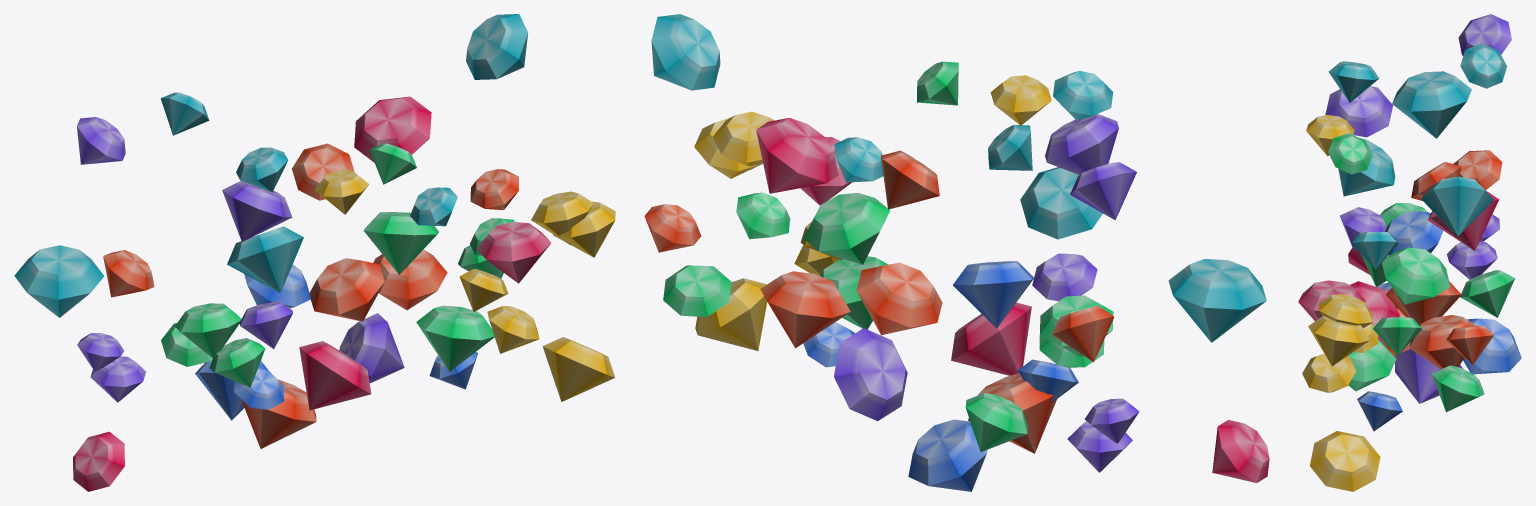
Rendered from gems.glb.
3 renders of one model, left to right at view 1: azimuth 30°, elevation 25°; view 2: azimuth 150°, elevation 25°; view 3: azimuth 270°, elevation 25°, orthographic. The views are drawn at different scales.
Bounding box in the file's own units: 4.15 × 2.51 × 1.62.
